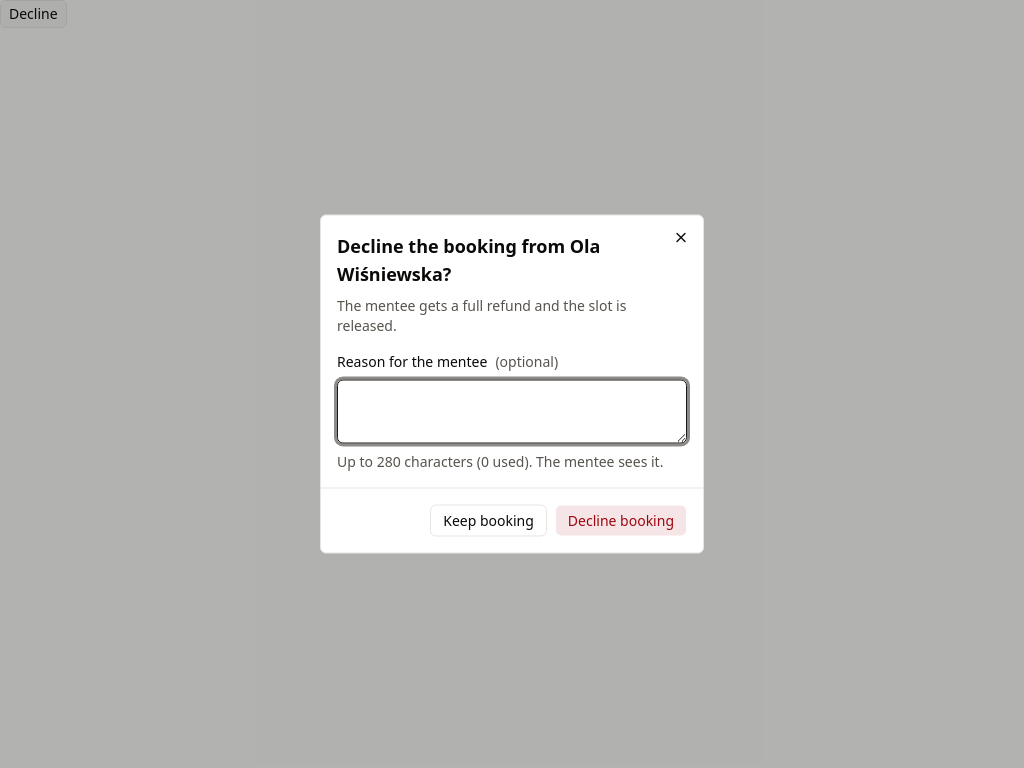
Test: DeclineBookingDialog › sends the trimmed reason and closes without a listener too
Type "  I am away.  " into the text box labelled "Reason for the mentee (optional)" at (512, 412), box [337,380,687,444]
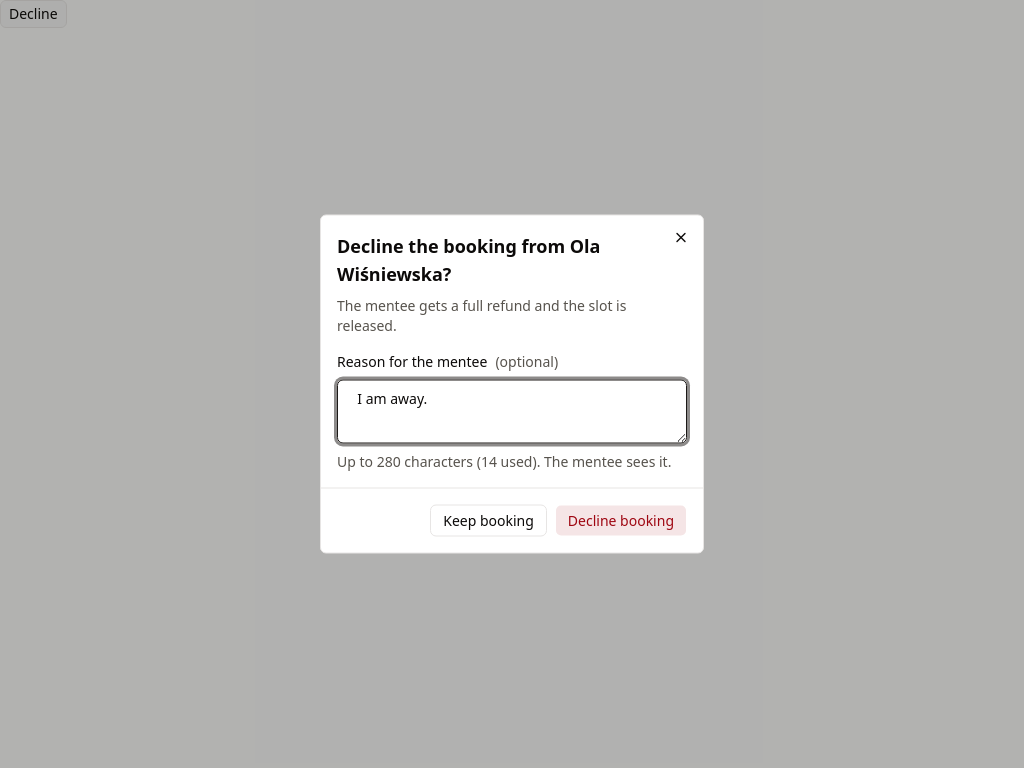
Click the button "Decline booking" at (621, 520), box [555,504,687,536]
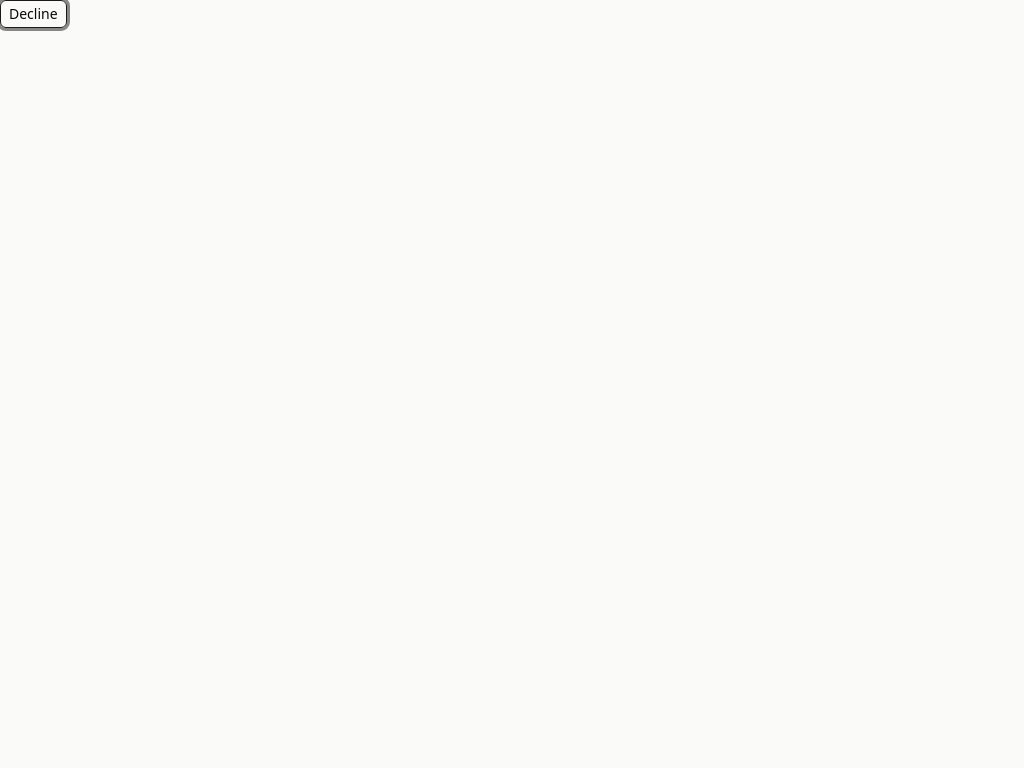
Now the dialog is gone
